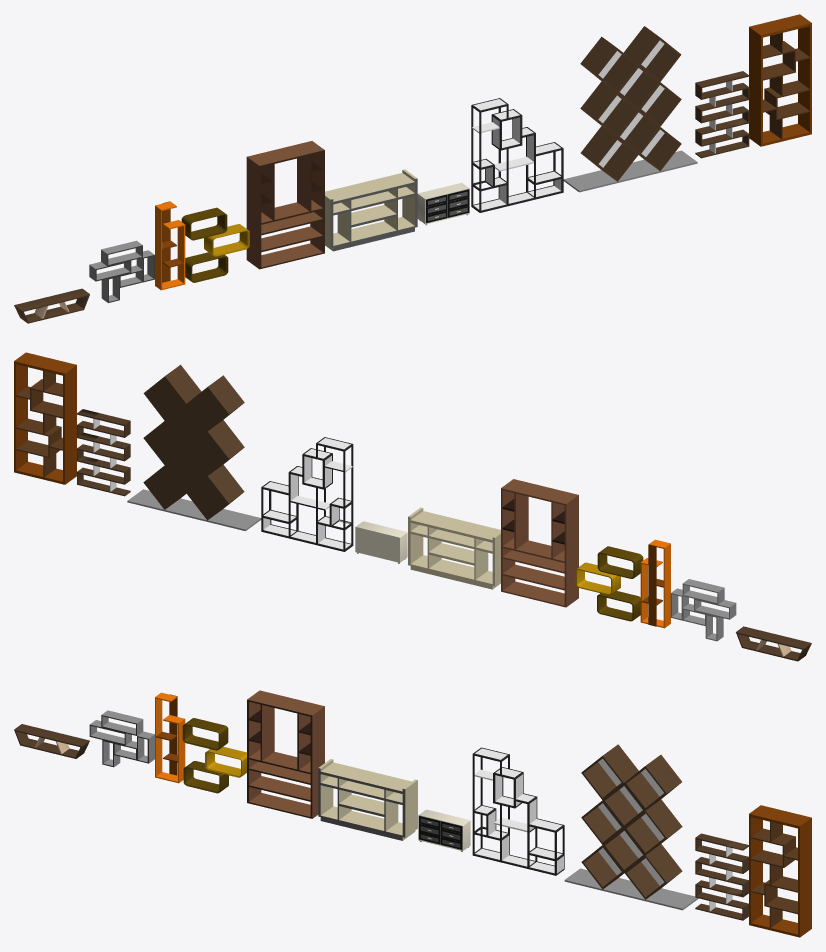
Rendered from Shelves.fbx.
The picture shows the model from 3 angles, top to bottom: view 1: azimuth 30°, elevation 25°; view 2: azimuth 150°, elevation 25°; view 3: azimuth 330°, elevation 25°; orthographic projection.
Parts seen in each view (by area): view 1: Shelve_09, Shelve_05, Shelve_11, Shelve_06, Shelve_08, Shelve_10, Shelve_04, Shelve_02, Shelve_03, Shelve_07, Shelve_01; view 2: Shelve_09, Shelve_05, Shelve_11, Shelve_06, Shelve_08, Shelve_10, Shelve_04, Shelve_02, Shelve_03, Shelve_07, Shelve_01; view 3: Shelve_09, Shelve_05, Shelve_11, Shelve_06, Shelve_08, Shelve_10, Shelve_04, Shelve_02, Shelve_03, Shelve_07, Shelve_01.
Part boxes in pixels (box(x1,y1,x2,y2)): Shelve_09: box(563, 26, 697, 192); Shelve_05: box(246, 141, 324, 269); Shelve_11: box(749, 14, 811, 146); Shelve_06: box(325, 169, 417, 251); Shelve_08: box(471, 98, 563, 212); Shelve_10: box(695, 71, 749, 158); Shelve_04: box(181, 207, 249, 282); Shelve_02: box(89, 240, 154, 302); Shelve_03: box(155, 201, 185, 290); Shelve_07: box(417, 182, 469, 225); Shelve_01: box(14, 288, 89, 323); Shelve_09: box(127, 364, 261, 530); Shelve_05: box(501, 479, 578, 607); Shelve_11: box(14, 352, 76, 484); Shelve_06: box(408, 507, 500, 589); Shelve_08: box(261, 437, 353, 551); Shelve_10: box(77, 409, 130, 496); Shelve_04: box(575, 546, 643, 621); Shelve_02: box(670, 579, 736, 641); Shelve_03: box(640, 539, 670, 628); Shelve_07: box(355, 521, 407, 563); Shelve_01: box(736, 626, 811, 661); Shelve_09: box(564, 744, 698, 910); Shelve_05: box(247, 690, 324, 818); Shelve_11: box(749, 805, 811, 937); Shelve_06: box(318, 759, 417, 840); Shelve_08: box(472, 747, 564, 875); Shelve_10: box(695, 833, 748, 920); Shelve_04: box(182, 718, 246, 793); Shelve_02: box(89, 710, 154, 767); Shelve_03: box(155, 692, 185, 783); Shelve_07: box(418, 809, 470, 851); Shelve_01: box(14, 724, 89, 758).
Size of the model in its own units: 1439 by 236 by 50.19.
